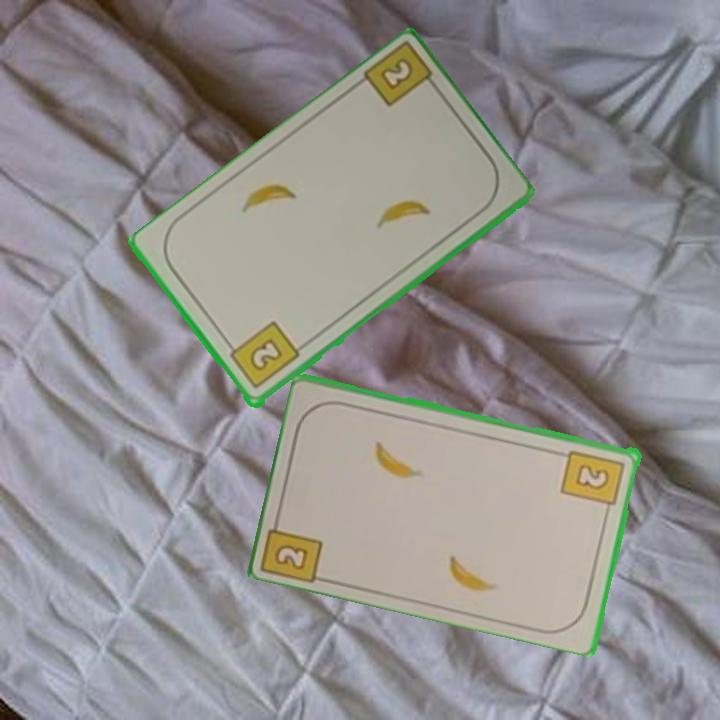2b: (358, 41, 443, 111), (223, 318, 303, 392), (261, 508, 327, 584), (558, 446, 628, 517)
